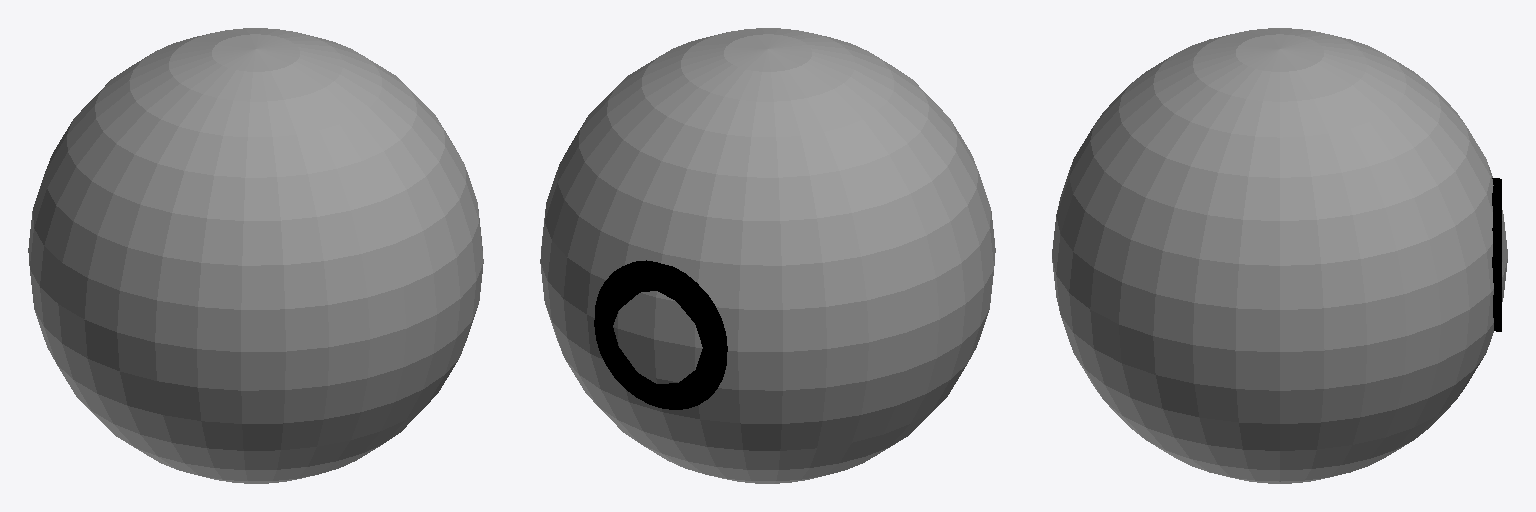
File: flat-eyball.obj
3 renders of one model, left to right at view 1: azimuth 30°, elevation 25°; view 2: azimuth 150°, elevation 25°; view 3: azimuth 270°, elevation 25°, orthographic.
Parts seen in each view (by area): view 1: Sphere; view 2: Sphere, Cylinder; view 3: Sphere, Cylinder.
Part boxes in pixels (x1,y1,x2,y2): Sphere: (28,28,483,483); Sphere: (540,28,995,483); Cylinder: (594,260,727,409); Sphere: (1052,28,1507,483); Cylinder: (1492,178,1501,331).
Size of the model in its own units: 0.5 by 0.5 by 0.5.